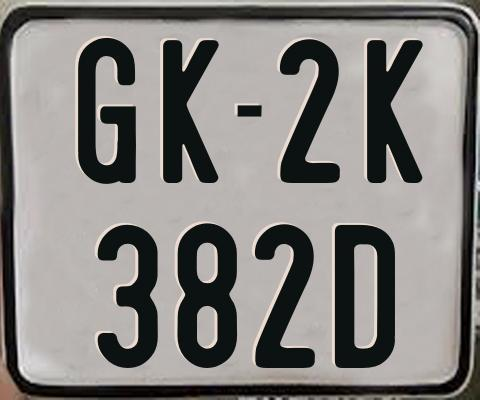2: (280, 38, 345, 183), (255, 221, 318, 365)
3: (96, 224, 157, 367)
8: (177, 220, 242, 369)
D: (333, 225, 399, 374)
G: (78, 37, 141, 183)
K: (365, 40, 425, 186), (162, 40, 220, 185)
